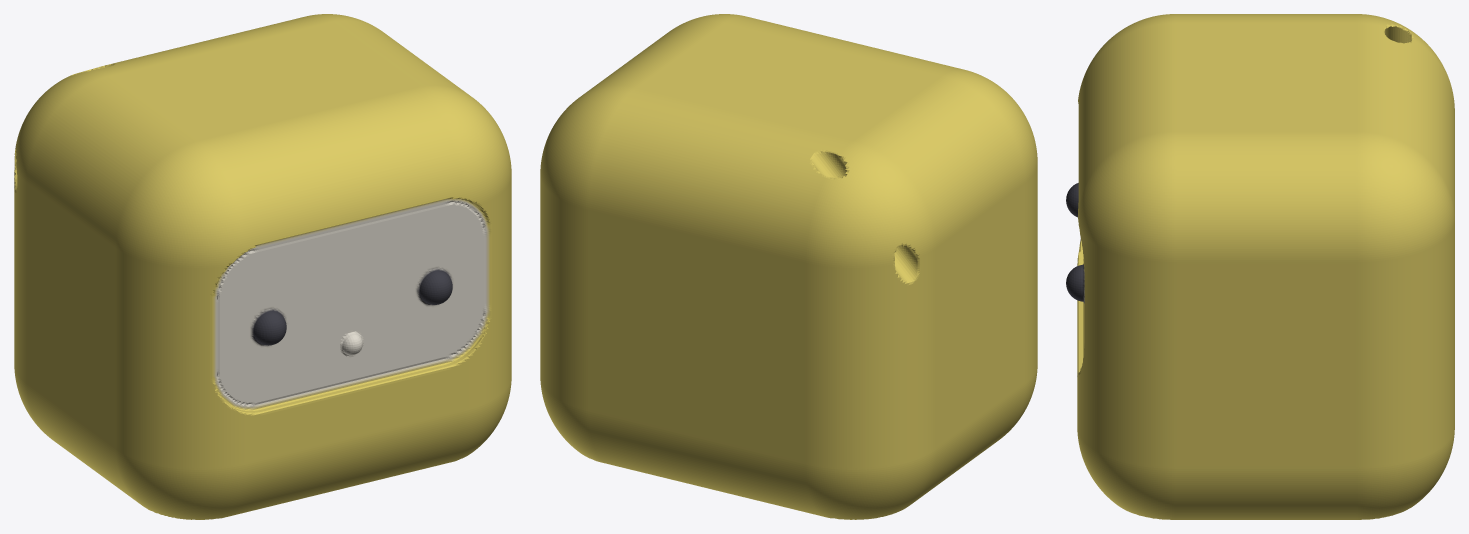
Rendered from bloki_assembled.glb.
The picture shows the model from 3 angles, left to right: view 1: azimuth 30°, elevation 25°; view 2: azimuth 150°, elevation 25°; view 3: azimuth 270°, elevation 25°; orthographic projection. The views are drawn at different scales.
Visible parts, largest first — view 1: world; view 2: world; view 3: world.
Boxes of the visible parts, left/top/right/bottom form: world: left=14, top=14, right=511, bottom=519; world: left=540, top=14, right=1037, bottom=519; world: left=1066, top=14, right=1454, bottom=519.
Bounding box in the file's own units: 36.96 × 32.5 × 31.72.
